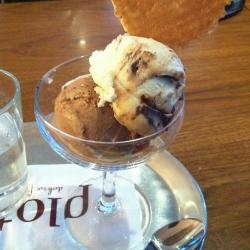icecream: (39, 34, 192, 164)
